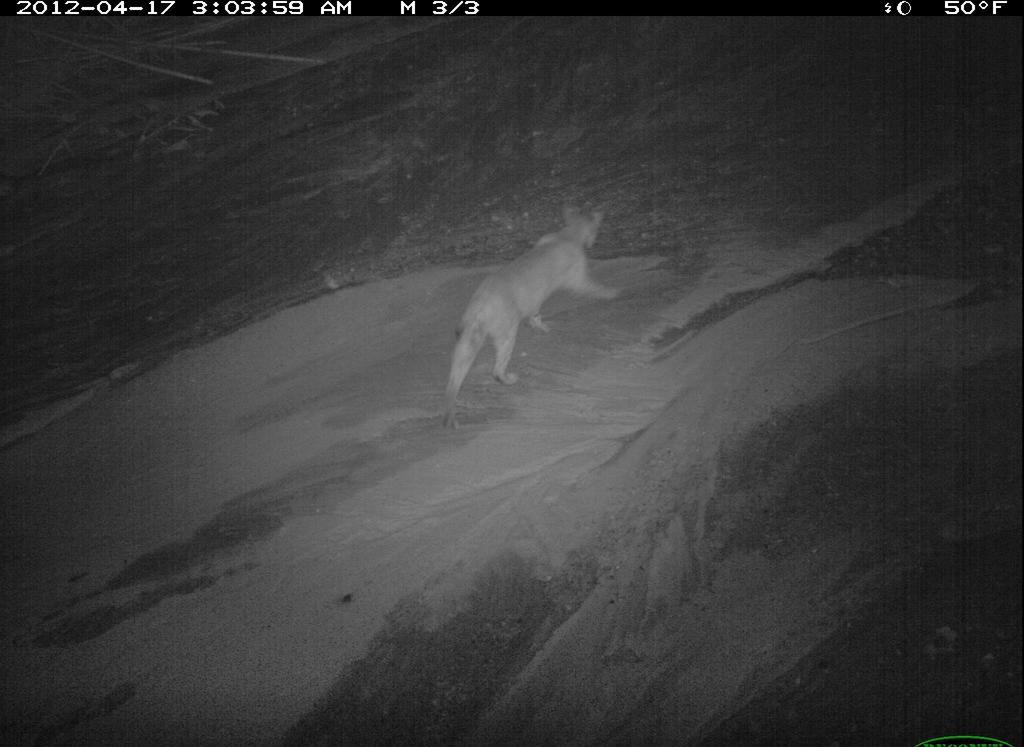bobcat: (867, 395, 1024, 747)
